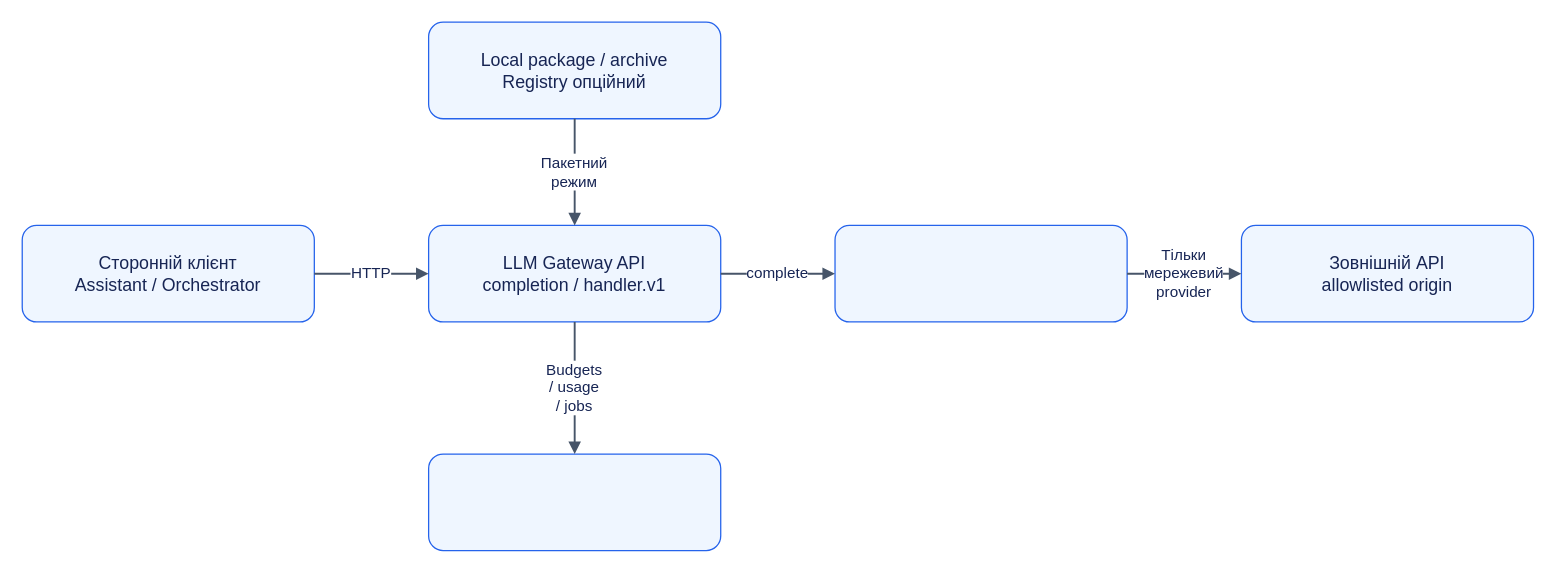
Some shapes in this 1556 by 573 pixel diagram are drawn without their labels. Each missing label, with the centre of its shape:
"ProviderAdapter fake або Anthropic" goes at (980,273).
"Власний Store PostgreSQL або memory" goes at (574,502).
